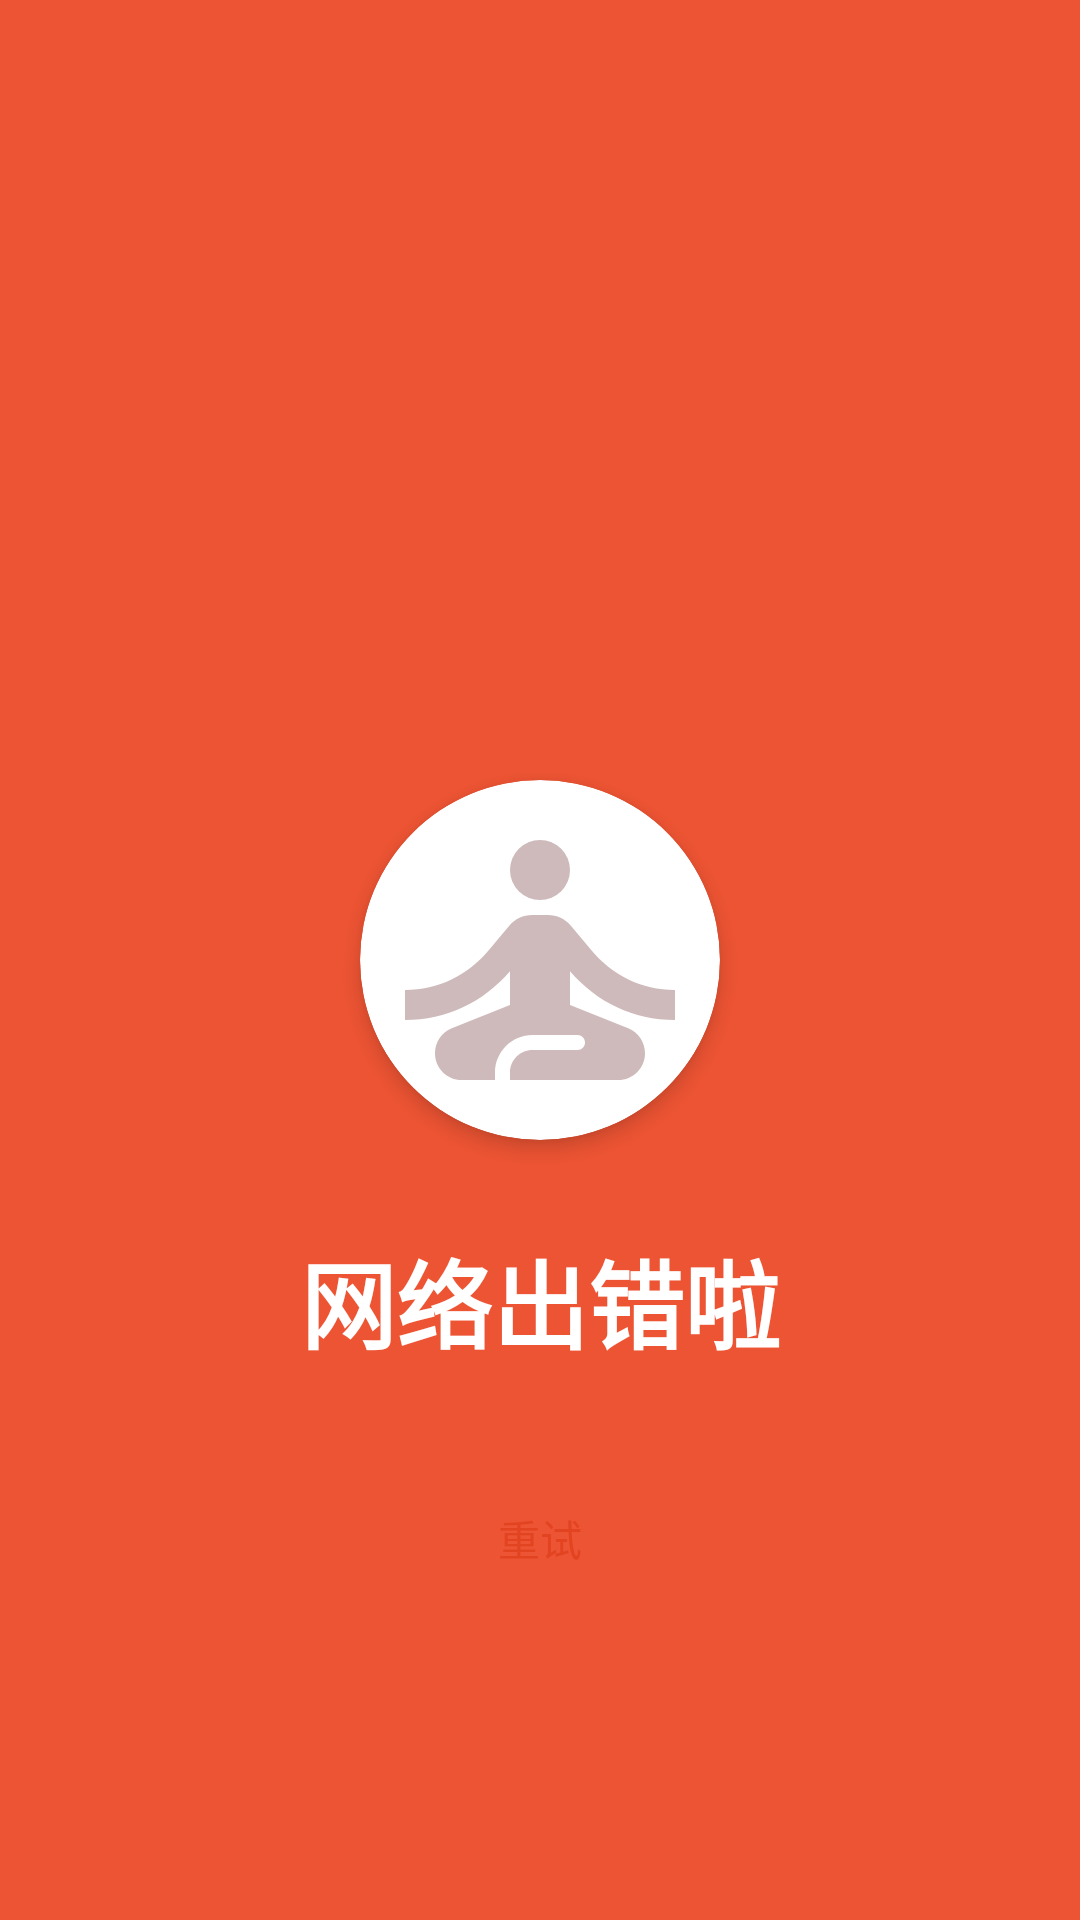

Where icons sit on this 1080px x 1920px app screen, as [x1=x1, y1=y1, x2=x2, y2=y2]:
self improvement: [x1=360, y1=780, x2=720, y2=1140]
